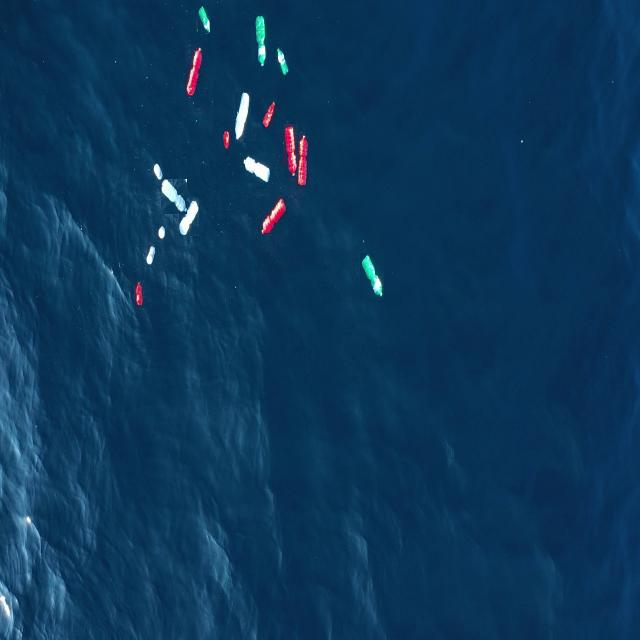bottles: (260, 196, 288, 236), (360, 252, 384, 298), (185, 45, 203, 97), (161, 179, 187, 214), (234, 92, 250, 143), (243, 155, 271, 183), (179, 198, 199, 236), (284, 124, 298, 178), (254, 14, 267, 70), (296, 132, 308, 189), (276, 44, 289, 79), (262, 98, 276, 130), (198, 5, 210, 34), (152, 162, 164, 182), (136, 280, 144, 308), (146, 244, 156, 266), (223, 129, 231, 151), (158, 224, 166, 240)
